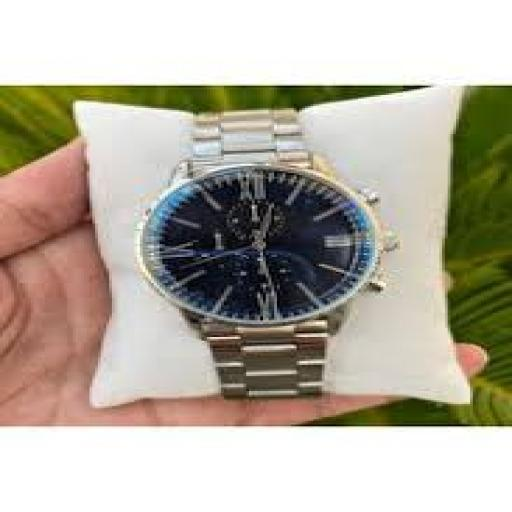KolSaati: (129, 94, 424, 401)
